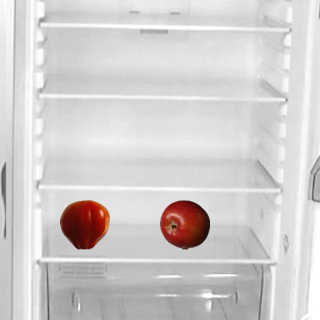Apple Braeburn: (159, 199, 209, 249)
Tomato 1: (59, 199, 109, 249)
